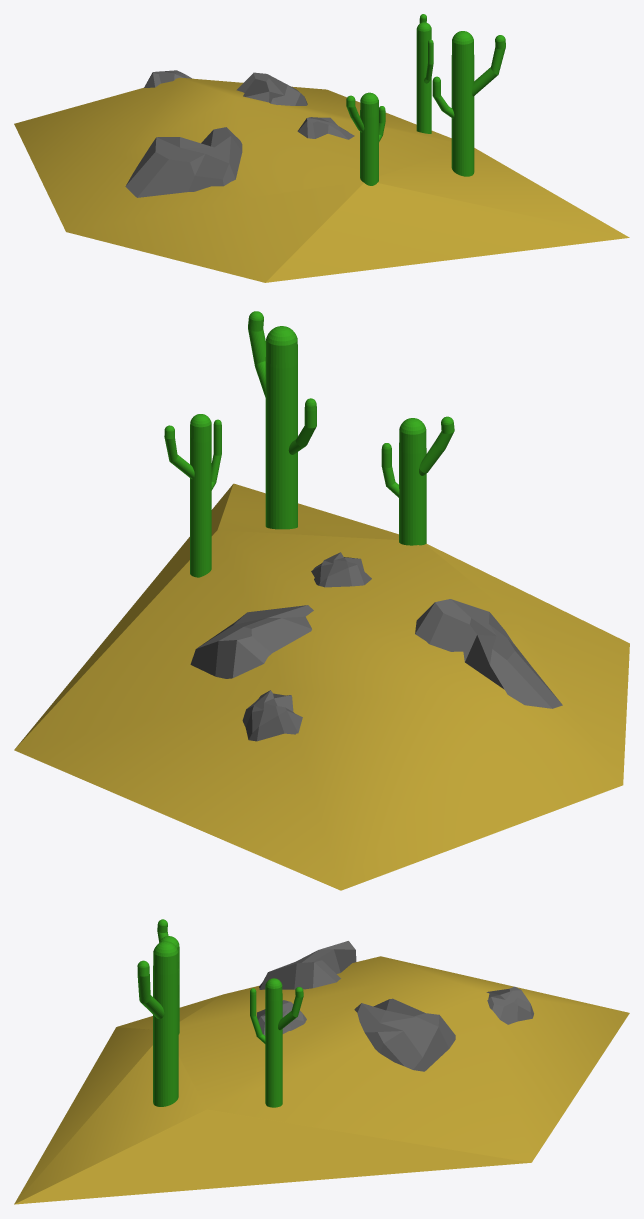
Rendered from desert_ob_04.fbx.
3 renders of one model, top to bottom at view 1: azimuth 30°, elevation 25°; view 2: azimuth 150°, elevation 25°; view 3: azimuth 270°, elevation 25°, orthographic. The views are drawn at different scales.
Parts seen in each view (by area): view 1: Icosphere, Cube, Cylinder, Cylinder.002, Cylinder.001, Cube.001, Cube.002, Cube.003; view 2: Icosphere, Cylinder, Cube, Cube.001, Cylinder.002, Cylinder.001, Cube.003, Cube.002; view 3: Icosphere, Cylinder, Cube.001, Cylinder.001, Cube, Cube.003, Cube.002, Cylinder.002.
Boxes of the visible parts, x1=… form: Icosphere: x1=14, y1=77, x2=629, y2=282; Cube: x1=125, y1=127, x2=242, y2=197; Cylinder: x1=432, y1=31, x2=505, y2=176; Cylinder.002: x1=346, y1=92, x2=385, y2=185; Cylinder.001: x1=416, y1=14, x2=433, y2=133; Cube.001: x1=236, y1=72, x2=307, y2=105; Cube.002: x1=297, y1=117, x2=354, y2=139; Cube.003: x1=144, y1=70, x2=191, y2=87; Icosphere: x1=14, y1=483, x2=629, y2=890; Cylinder: x1=248, y1=311, x2=316, y2=529; Cube: x1=415, y1=599, x2=562, y2=708; Cube.001: x1=190, y1=605, x2=313, y2=678; Cylinder.002: x1=381, y1=416, x2=454, y2=545; Cylinder.001: x1=164, y1=414, x2=221, y2=577; Cube.003: x1=242, y1=690, x2=302, y2=741; Cube.002: x1=311, y1=552, x2=371, y2=587; Icosphere: x1=14, y1=956, x2=629, y2=1204; Cylinder: x1=137, y1=941, x2=178, y2=1106; Cube.001: x1=354, y1=998, x2=455, y2=1071; Cylinder.001: x1=250, y1=978, x2=303, y2=1107; Cube: x1=259, y1=941, x2=356, y2=989; Cube.003: x1=486, y1=986, x2=533, y2=1024; Cube.002: x1=256, y1=1000, x2=306, y2=1036; Cylinder.002: x1=157, y1=919, x2=179, y2=1034.
Bounding box in the file's own units: 4869 × 2022 × 5475.
